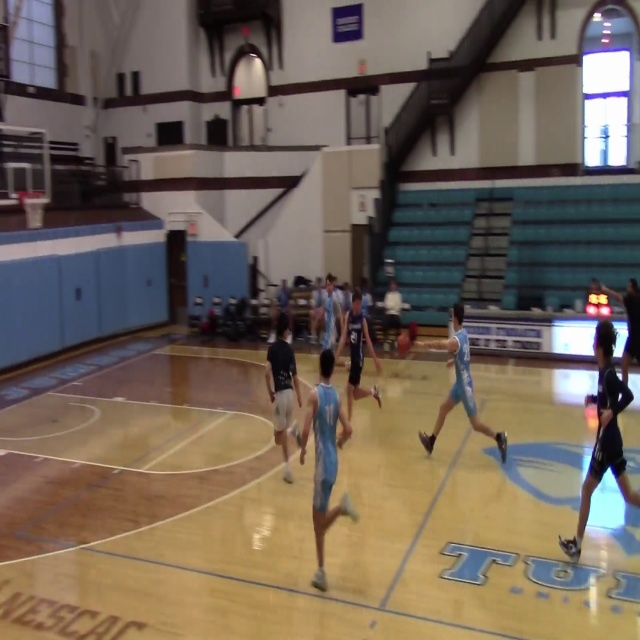Basketball: (584, 394, 599, 429), (397, 332, 411, 353), (447, 337, 459, 354)
